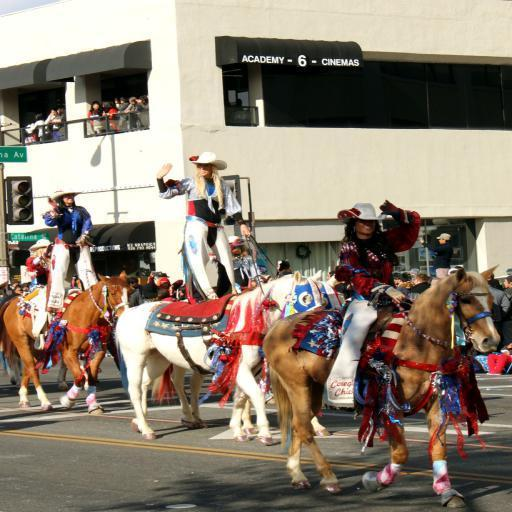horse: (260, 266, 502, 508), (114, 268, 327, 446), (150, 274, 349, 438), (0, 266, 131, 417)
